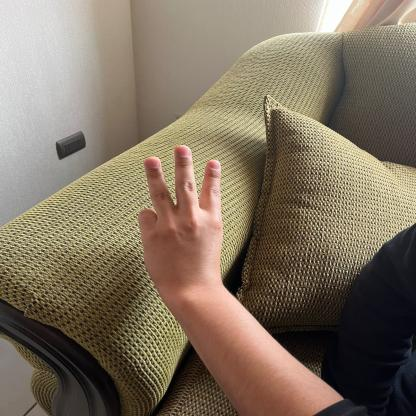W: (132, 139, 230, 281)
